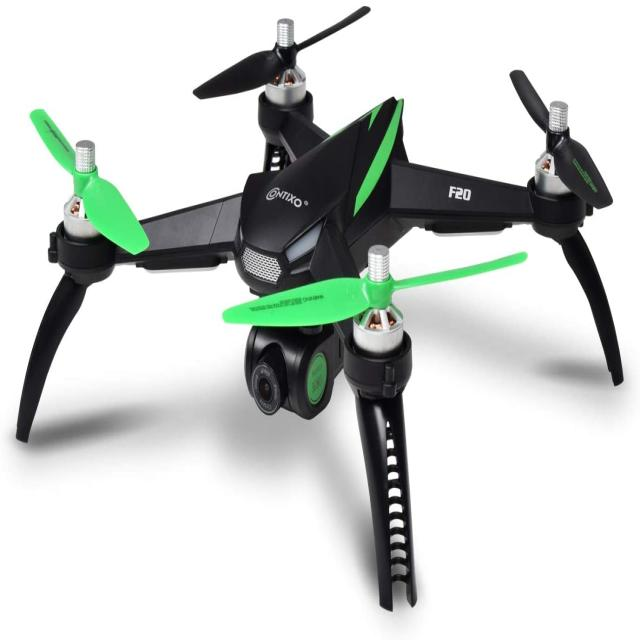drone: (14, 0, 640, 588)
